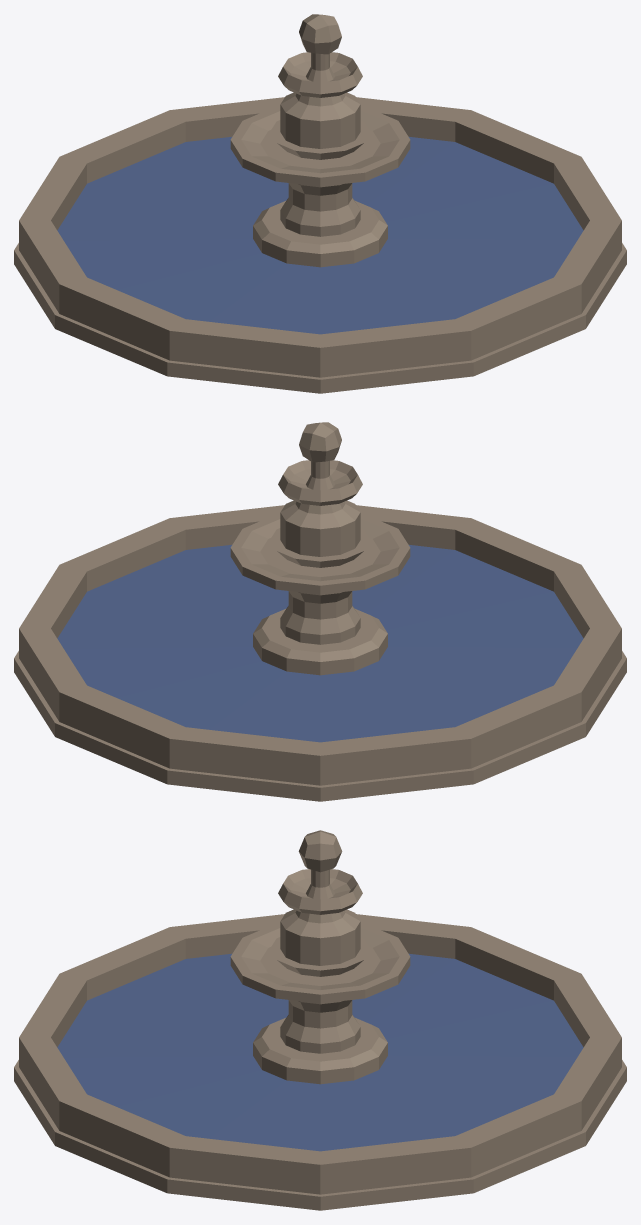
File: Fuente.fbx
3 renders of one model, top to bottom at view 1: azimuth 30°, elevation 25°; view 2: azimuth 150°, elevation 25°; view 3: azimuth 270°, elevation 25°, orthographic.
Visible parts, largest first — view 1: Fuente3; view 2: Fuente3; view 3: Fuente3.
Boxes of the visible parts, x1,y1,x2,y2 form: Fuente3: [14, 14, 626, 393]; Fuente3: [14, 422, 626, 801]; Fuente3: [14, 830, 626, 1210].
Bounding box in the file's own units: 194 × 86.97 × 194.
